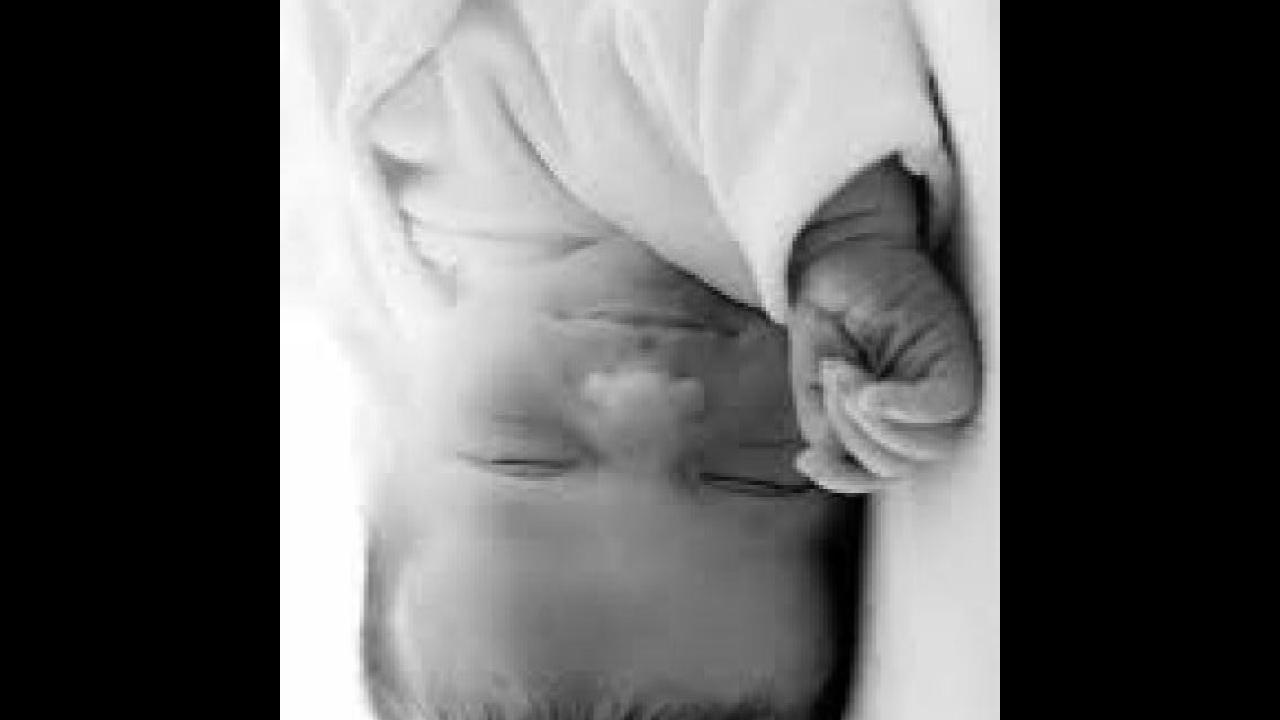hand: (786, 234, 978, 505)
